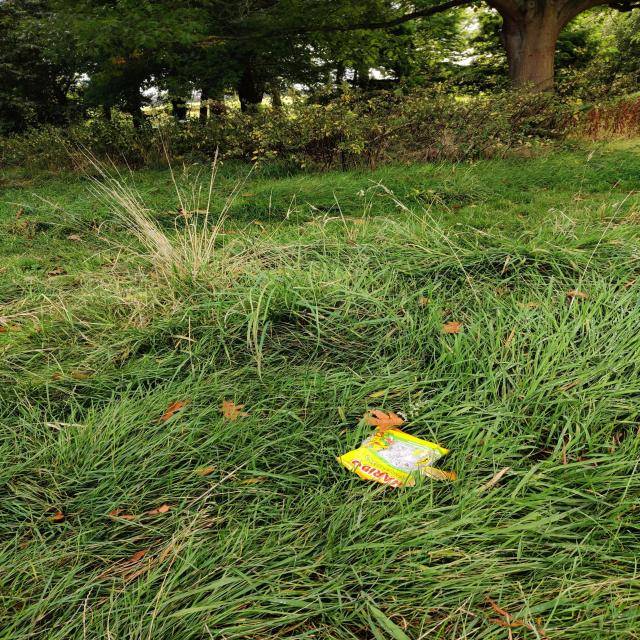litter: (328, 426, 467, 496)
